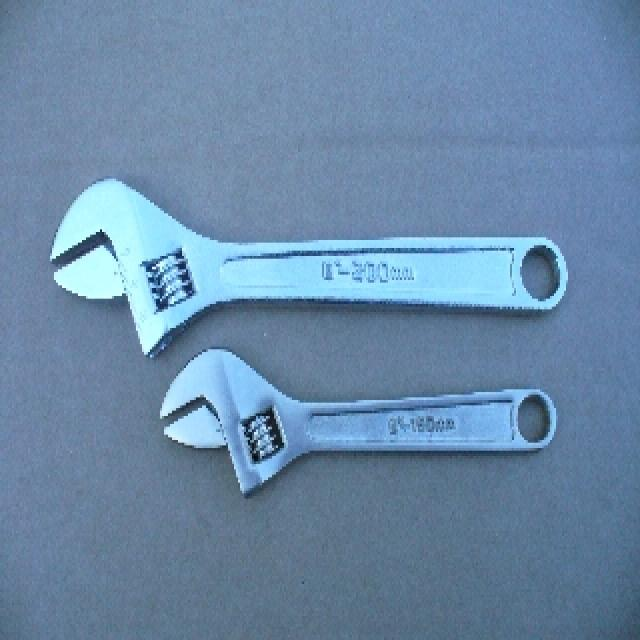wrench: (41, 158, 593, 358), (144, 334, 614, 518)
